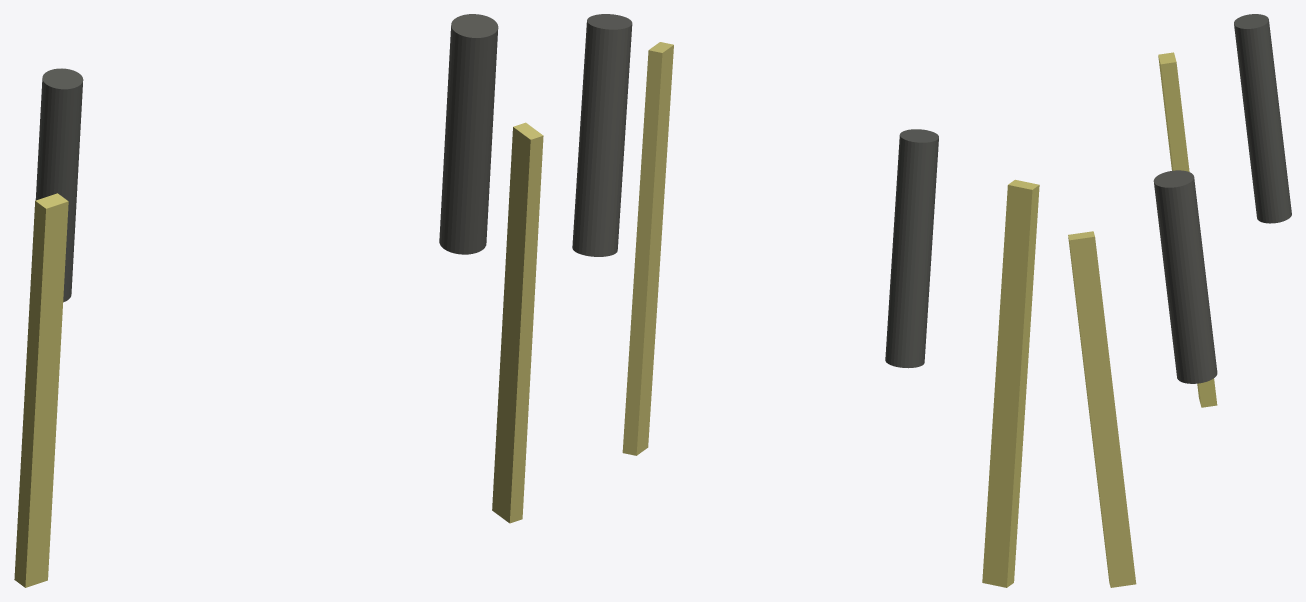
The model's file is posts.glb.
The picture shows the model from 3 angles, left to right: view 1: azimuth 30°, elevation 25°; view 2: azimuth 150°, elevation 25°; view 3: azimuth 270°, elevation 25°; orthographic projection. The views are drawn at different scales.
Visible parts, largest first — view 1: box-2, box-1, cylinder-2, cylinder-1; view 2: box-2, cylinder-2, box-1, cylinder-1; view 3: box-1, cylinder-2, cylinder-1, box-2.
Part boxes in pixels (<box>): box-2: <box>14,193,68,587</box>; box-1: <box>492,122,543,523</box>; cylinder-2: <box>439,14,498,254</box>; cylinder-1: <box>35,68,83,302</box>; box-2: <box>982,179,1039,587</box>; cylinder-2: <box>572,14,632,256</box>; box-1: <box>622,42,673,455</box>; cylinder-1: <box>885,129,938,368</box>; box-1: <box>1068,231,1136,587</box>; cylinder-2: <box>1153,170,1217,383</box>; cylinder-1: <box>1234,14,1291,223</box>; box-2: <box>1158,52,1217,407</box>.
Bounding box in the file's own units: 3.11 × 3.06 × 1.52.
